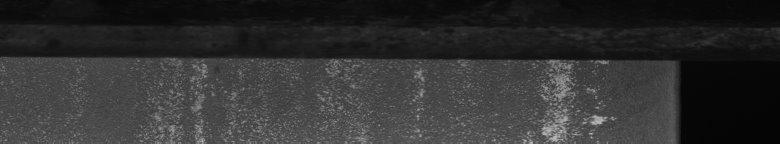kb: (4, 0, 675, 144)
